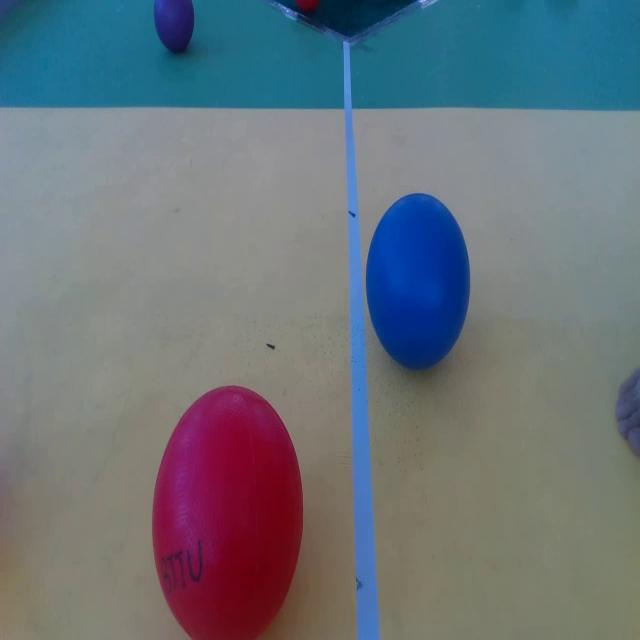blue: (364, 194, 470, 366)
red: (152, 384, 304, 637)
